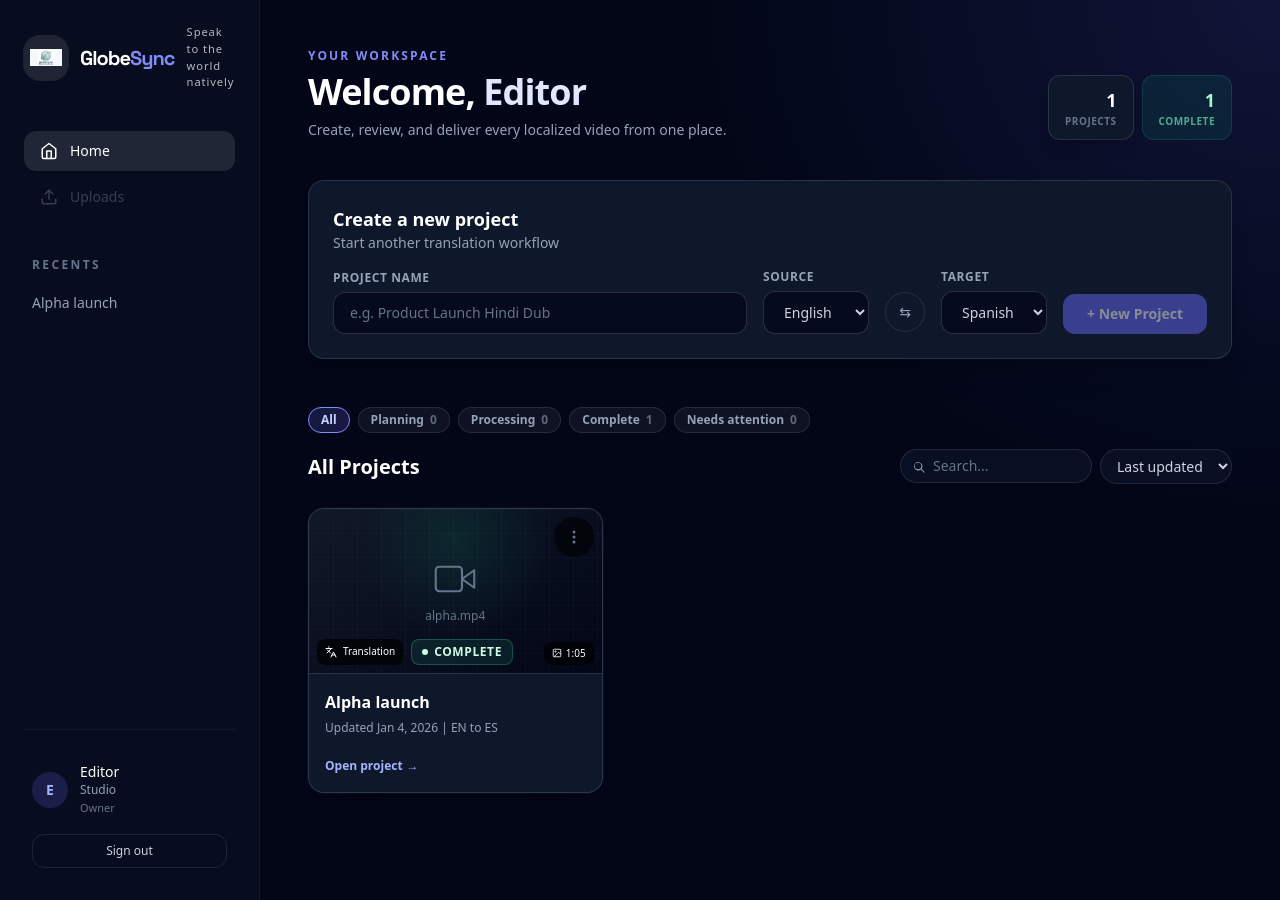
WorkspaceHome › closes the project action menu on Escape
Click the button named "Project actions".
click(574, 537)  # box x1=558 y1=521 x2=590 y2=553
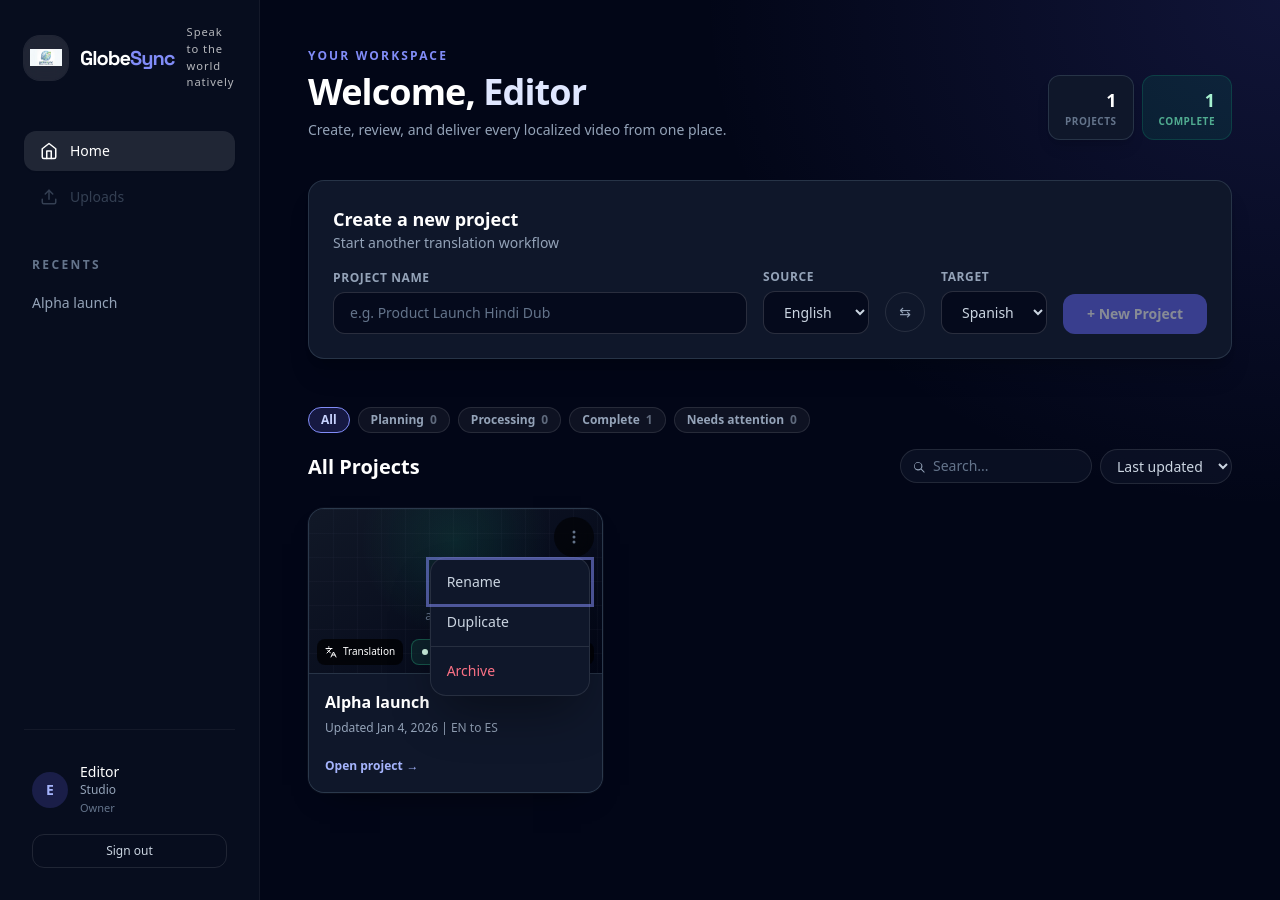
Expected: the menu is shown, x1=430 y1=557 x2=590 y2=696
Press Escape
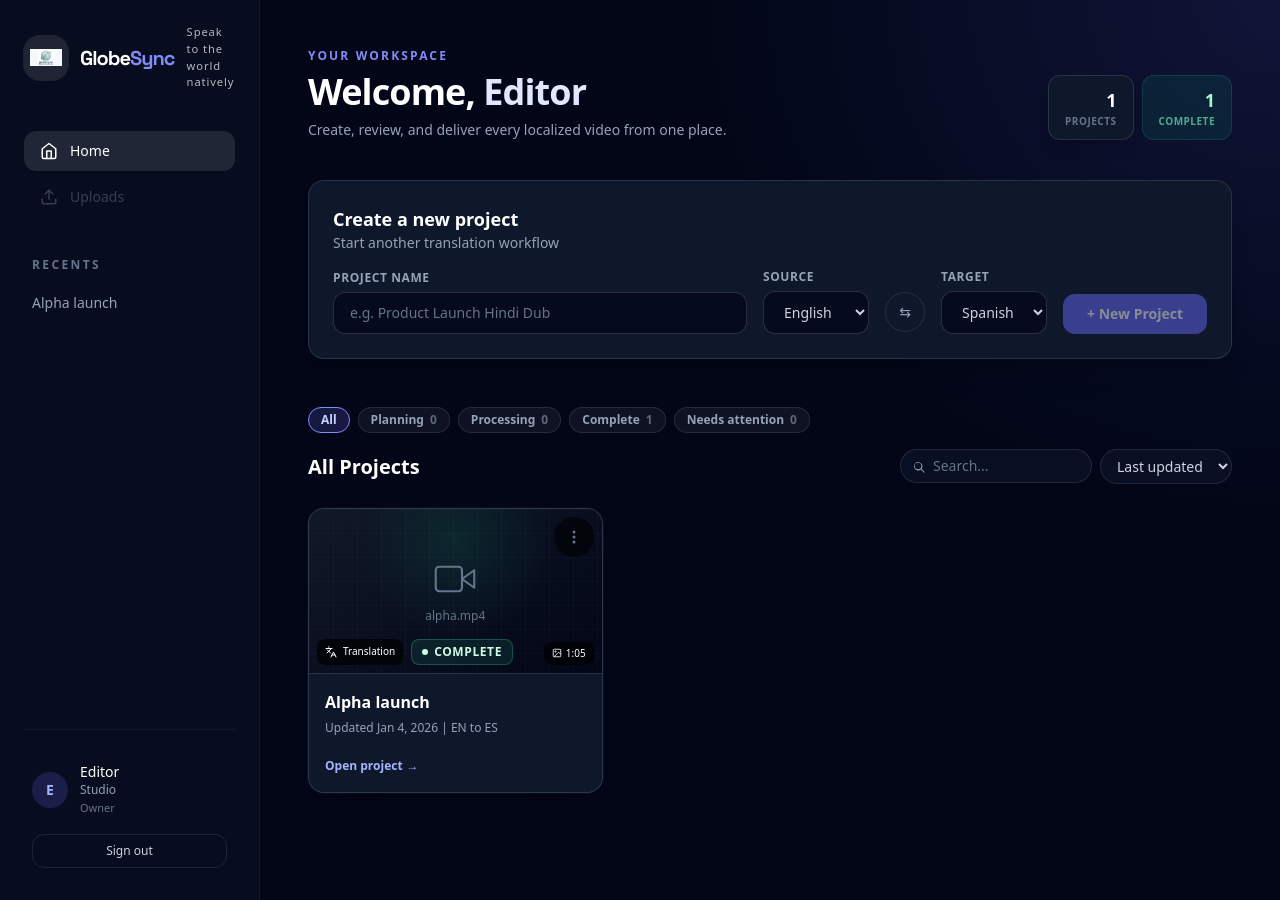
Expected: the menu is gone
